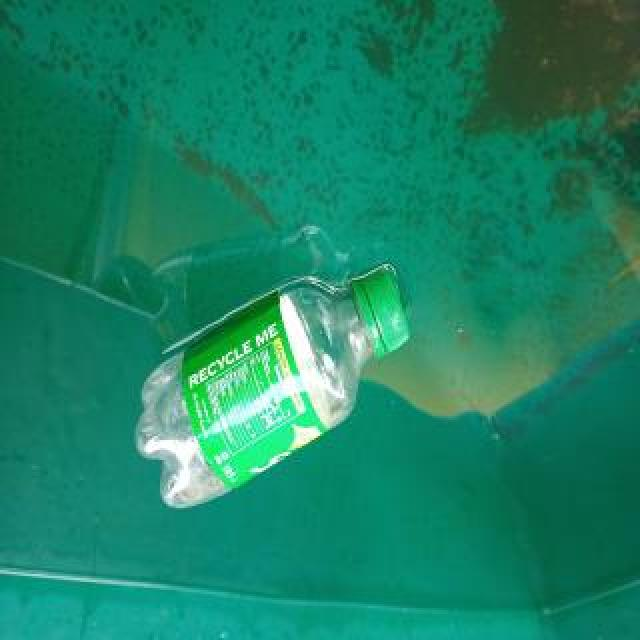Plastic Bottle: (131, 262, 413, 516)
